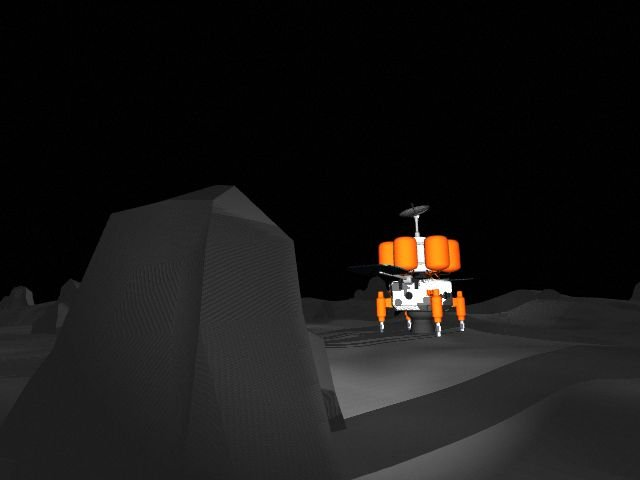homebase: (369, 200, 479, 339)
